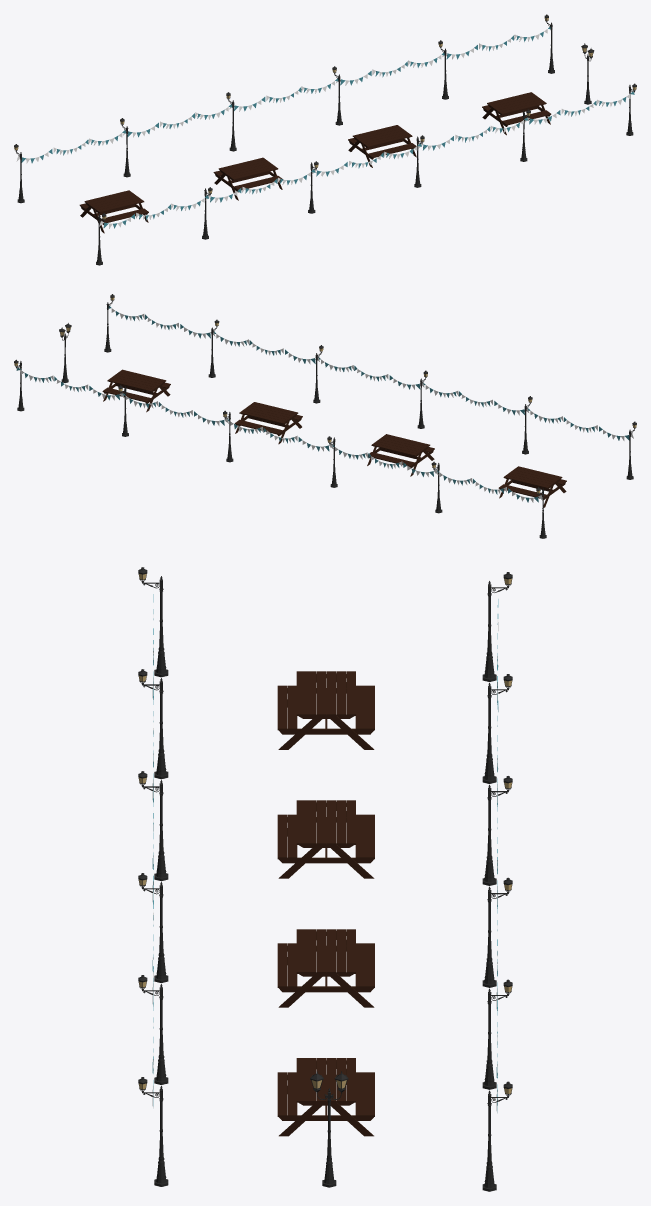
File: town_center_models.fbx
3 renders of one model, top to bottom at view 1: azimuth 30°, elevation 25°; view 2: azimuth 150°, elevation 25°; view 3: azimuth 270°, elevation 25°, orthographic. The views are drawn at different scales.
Parts seen in each view (by area): view 1: picnicTable, Mesh1_Color_J06_0.001, Mesh1_Color_J06_0, oneLight.001, oneLight.002; view 2: picnicTable, Mesh1_Color_J06_0, Mesh1_Color_J06_0.001, oneLight.002, oneLight.001; view 3: picnicTable, oneLight.002, oneLight.001, twoLights.001.
Boxes of the visible parts, bbox=[...] form: picnicTable: bbox=[79, 92, 551, 233]; Mesh1_Color_J06_0.001: bbox=[99, 91, 634, 228]; Mesh1_Color_J06_0: bbox=[16, 27, 550, 163]; oneLight.001: bbox=[14, 14, 554, 203]; oneLight.002: bbox=[96, 83, 636, 265]; picnicTable: bbox=[102, 369, 566, 508]; Mesh1_Color_J06_0: bbox=[16, 367, 542, 502]; Mesh1_Color_J06_0.001: bbox=[108, 306, 633, 440]; oneLight.002: bbox=[104, 294, 636, 479]; oneLight.001: bbox=[14, 359, 546, 538]; picnicTable: bbox=[277, 671, 374, 1136]; oneLight.002: bbox=[138, 567, 168, 1186]; oneLight.001: bbox=[482, 572, 512, 1191]; twoLights.001: bbox=[310, 1071, 348, 1187].
Size of the model in its own units: 4439 by 450 by 1348.
